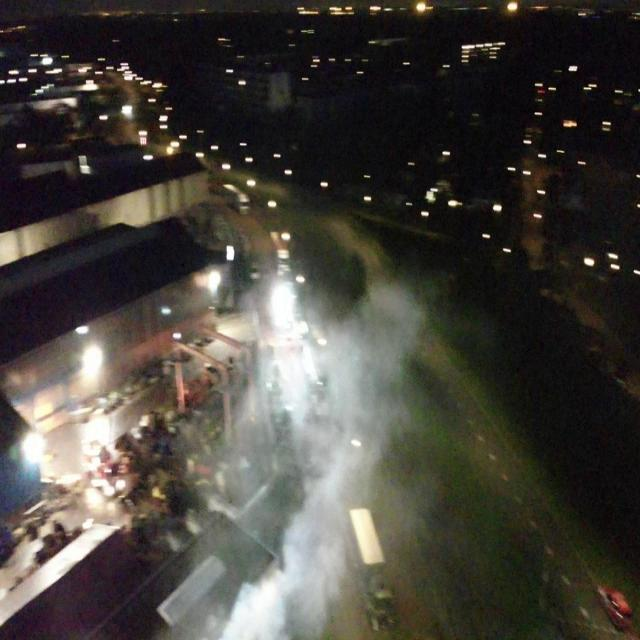Smoke: (149, 276, 428, 640)
